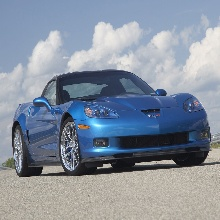no damage: (11, 69, 211, 175)
